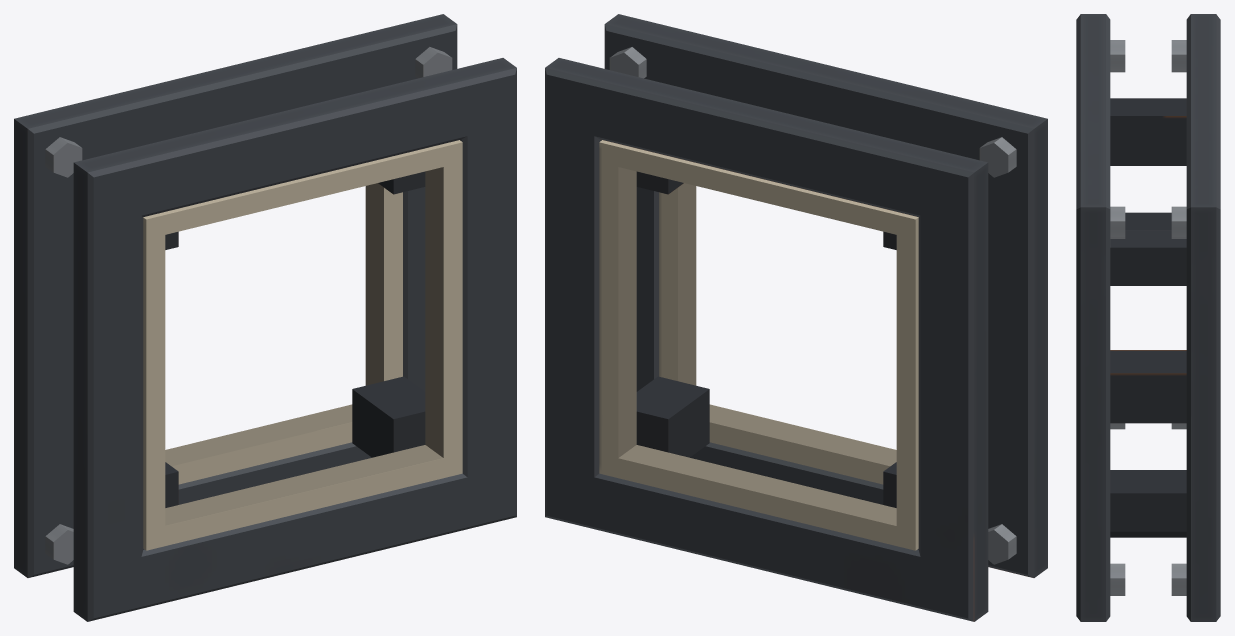
The model's file is arm_port_south.obj.
The picture shows the model from 3 angles, left to right: view 1: azimuth 30°, elevation 25°; view 2: azimuth 150°, elevation 25°; view 3: azimuth 270°, elevation 25°; orthographic projection. The views are drawn at different scales.
Visible parts, largest first — view 1: arm_port_port, arm_port_flange, arm_port_port_lining, arm_port_flange_lining, arm_port_rails, arm_port_flange_nuts; view 2: arm_port_flange, arm_port_port, arm_port_flange_lining, arm_port_port_lining, arm_port_rails, arm_port_port_nuts; view 3: arm_port_flange, arm_port_port, arm_port_rails, arm_port_flange_nuts, arm_port_port_nuts.
Part boxes in pixels (x1,y1,x2,y2): arm_port_port: (73,58,516,621); arm_port_flange: (14,14,457,577); arm_port_port_lining: (143,140,462,550); arm_port_flange_lining: (165,183,402,484); arm_port_rails: (165,171,425,507); arm_port_flange_nuts: (45,47,452,564); arm_port_flange: (545,58,988,621); arm_port_port: (604,14,1047,577); arm_port_flange_lining: (599,140,918,550); arm_port_port_lining: (659,183,896,484); arm_port_rails: (636,171,896,507); arm_port_port_nuts: (609,47,1016,564); arm_port_flange: (1186,14,1220,621); arm_port_port: (1076,14,1110,621); arm_port_rails: (1110,98,1186,537); arm_port_flange_nuts: (1171,40,1186,595); arm_port_port_nuts: (1110,40,1125,595).
Size of the model in its own units: 0.675 by 0.675 by 0.2125.
